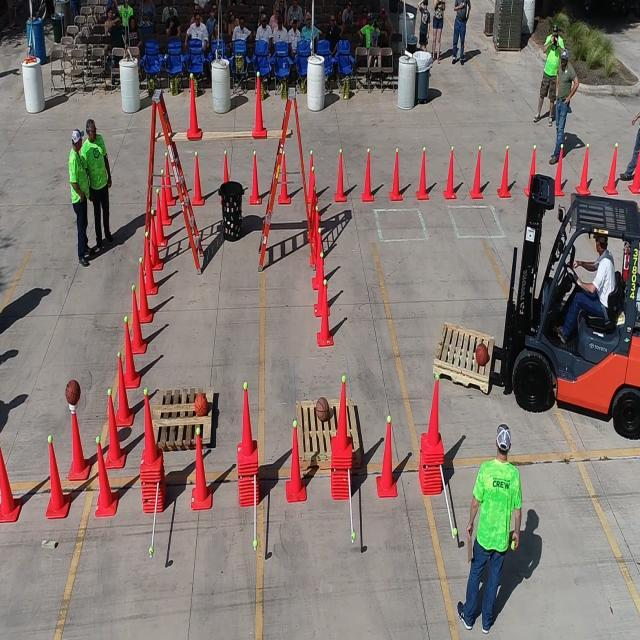forklift: (508, 163, 640, 443)
person: (459, 425, 522, 640), (61, 122, 91, 271), (84, 112, 115, 244), (554, 54, 574, 148), (544, 31, 561, 99), (190, 13, 208, 42), (256, 16, 272, 44), (273, 18, 288, 42), (303, 13, 316, 40), (234, 18, 247, 41), (289, 18, 300, 44)
